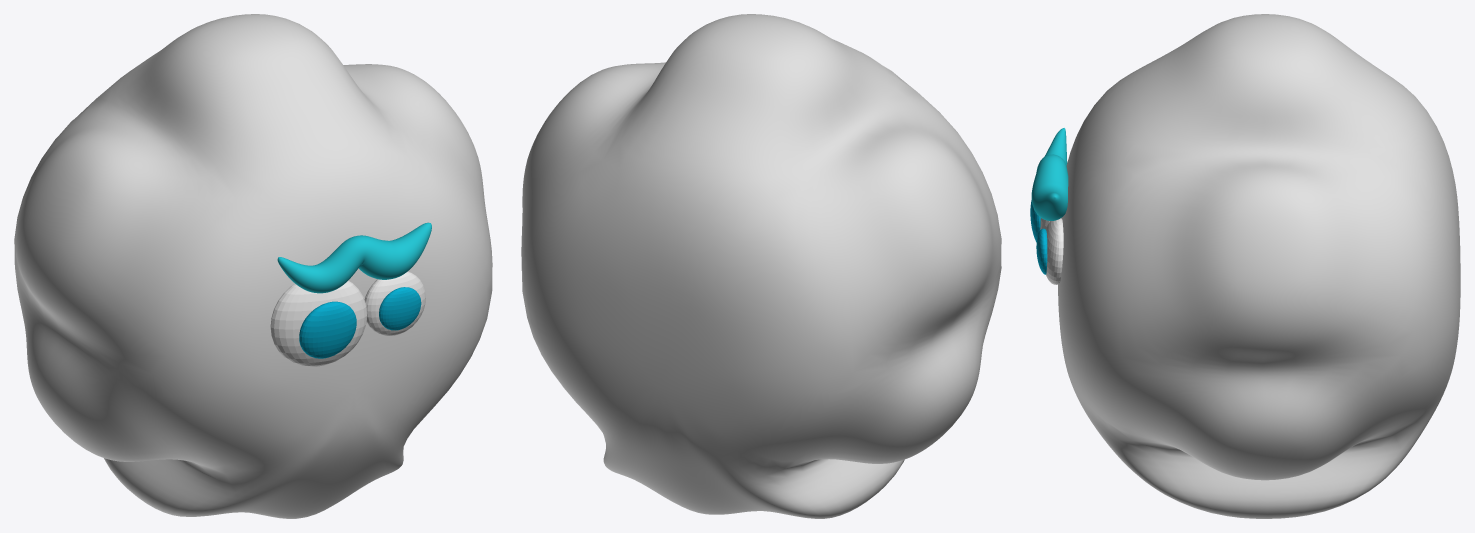
Rendered from spirit_cyan.fbx.
3 views of the same model, side by side, from view 1: azimuth 30°, elevation 25°; view 2: azimuth 150°, elevation 25°; view 3: azimuth 270°, elevation 25° (orthographic). The views are drawn at different scales.
Visible parts, largest first — view 1: Cylinder.005, NurbsPath.001, Sphere.032, Sphere.031, Sphere.026, Sphere.025; view 2: Cylinder.005; view 3: Cylinder.005, NurbsPath.001, Sphere.026.
Part boxes in pixels (box(x1,y1,x2,y2)): Cylinder.005: box(14, 14, 492, 518); NurbsPath.001: box(277, 222, 431, 293); Sphere.032: box(270, 280, 367, 366); Sphere.031: box(299, 301, 356, 358); Sphere.026: box(364, 271, 425, 335); Sphere.025: box(379, 287, 421, 330); Cylinder.005: box(521, 14, 1001, 518); Cylinder.005: box(1058, 14, 1460, 518); NurbsPath.001: box(1031, 128, 1068, 220); Sphere.026: box(1046, 218, 1063, 284).
Size of the model in its own units: 111 by 111 by 97.69.
